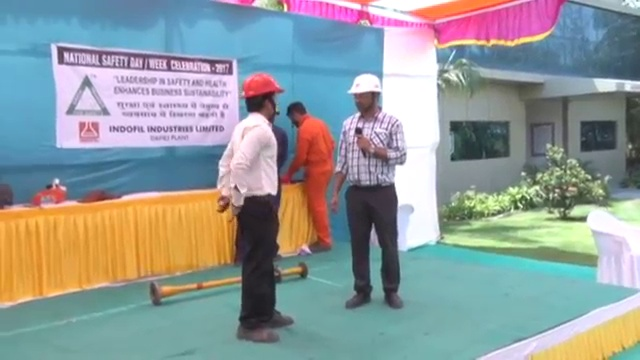helmet: (237, 71, 289, 98), (346, 72, 386, 96)
helmet_off: (285, 99, 309, 127)
helmet_on: (237, 71, 289, 124), (345, 71, 387, 121)
person: (218, 71, 296, 342), (330, 72, 405, 308), (282, 98, 337, 253)
